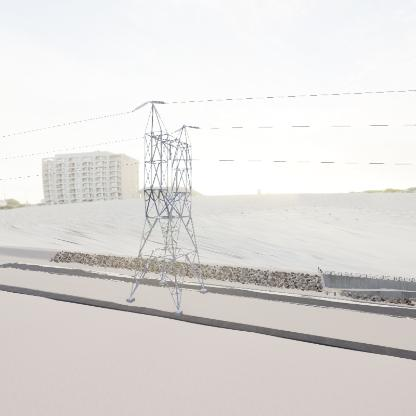tower: (125, 99, 208, 322)
